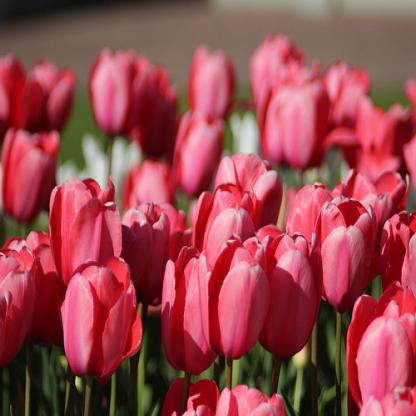TULIP: (5, 45, 412, 407)
